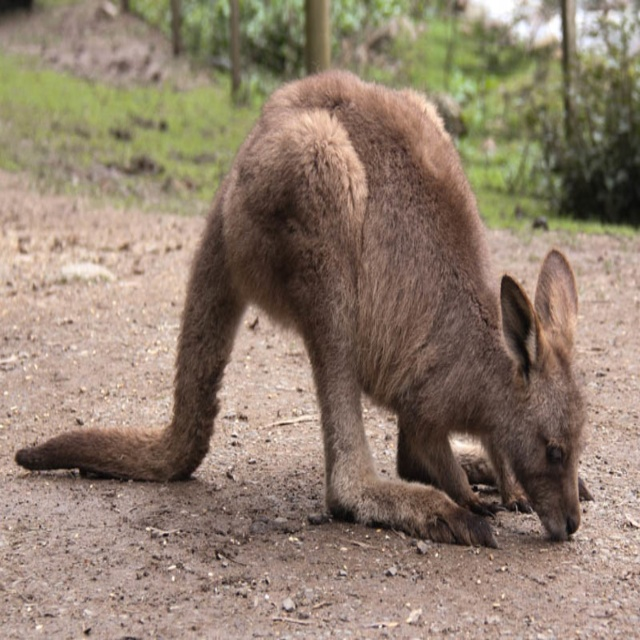Kangaroo: (13, 66, 596, 551)
